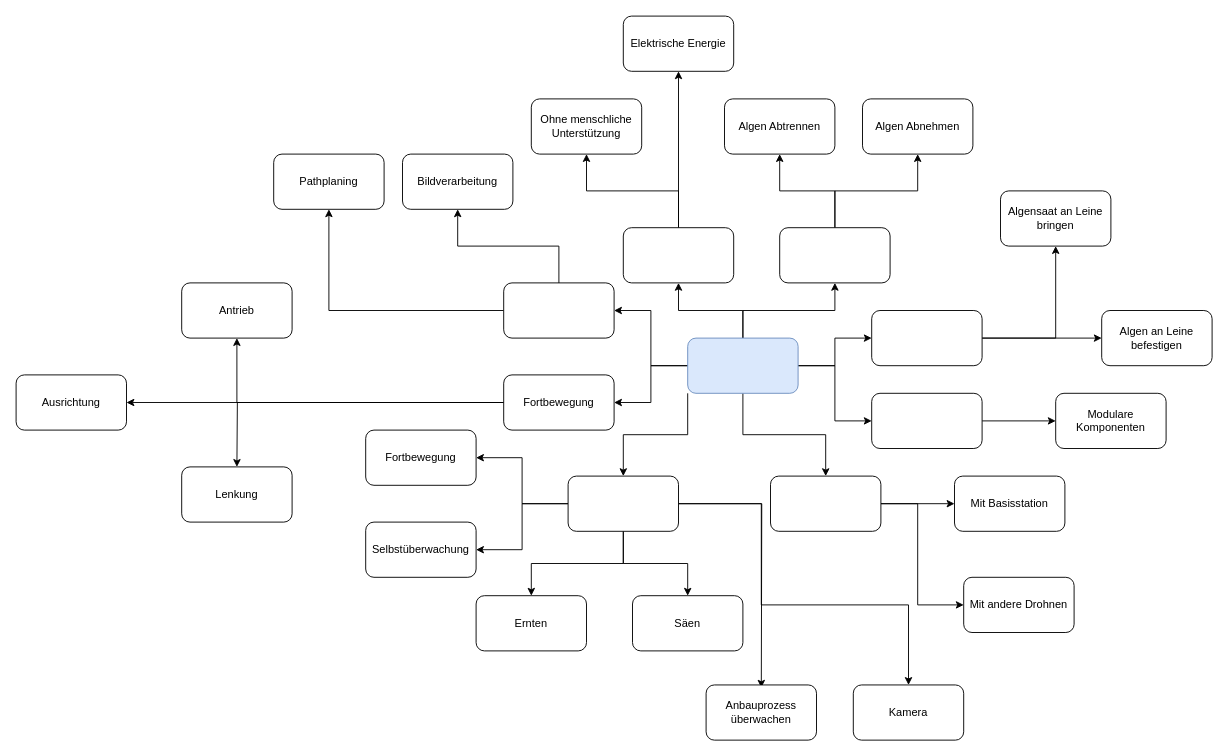
Some shapes in this 1228 by 756 pixel diagram are drawn without their labels. Here are the shapes that lost their labels. From the top down, the box of each, then its label:
(622, 227, 734, 283): Energieversorgung
(779, 227, 890, 283): Ernte Werkzeuge
(503, 282, 614, 338): Software
(871, 310, 982, 366): Säen Werkzeuge
(687, 337, 798, 393): Unsere Drohne
(871, 392, 982, 448): Gehäuse
(567, 475, 678, 531): Sensorik
(770, 475, 881, 531): Kommunikation
